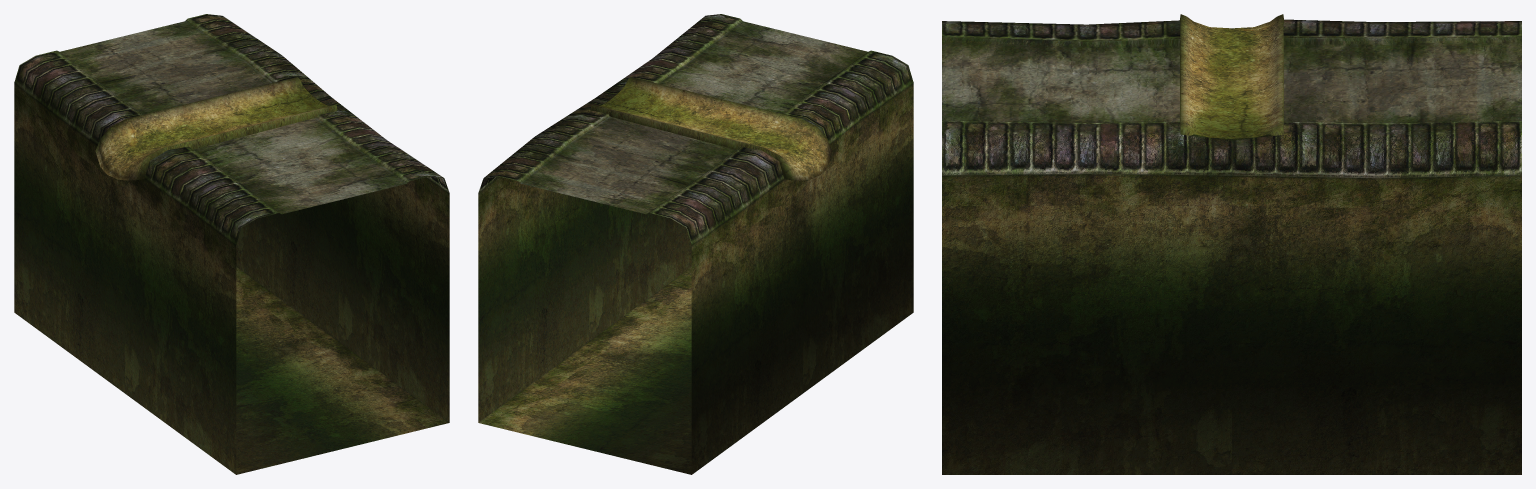
The model's file is floor_sluice.DAE.
The picture shows the model from 3 angles, left to right: view 1: azimuth 30°, elevation 25°; view 2: azimuth 150°, elevation 25°; view 3: azimuth 270°, elevation 25°; orthographic projection. The views are drawn at different scales.
Parts seen in each view (by area): view 1: floor001, sluice; view 2: floor001, sluice; view 3: floor001, sluice.
Boxes of the visible parts, x1,y1,x2,y2 form: floor001: (14,14,449,474); sluice: (95,77,337,180); floor001: (478,14,913,474); sluice: (590,77,832,180); floor001: (942,19,1521,474); sluice: (1180,14,1283,138).
Bounding box in the file's own units: 2.45 × 4 × 2.54.
